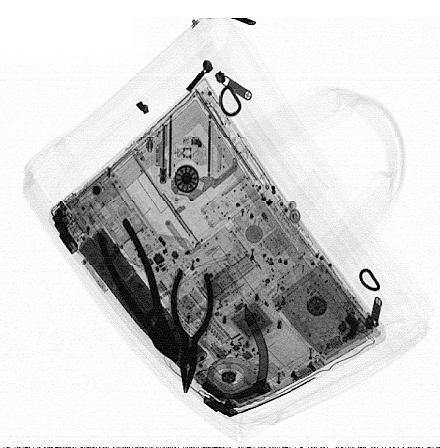Pliers: (97, 215, 181, 367), (169, 267, 215, 395)
